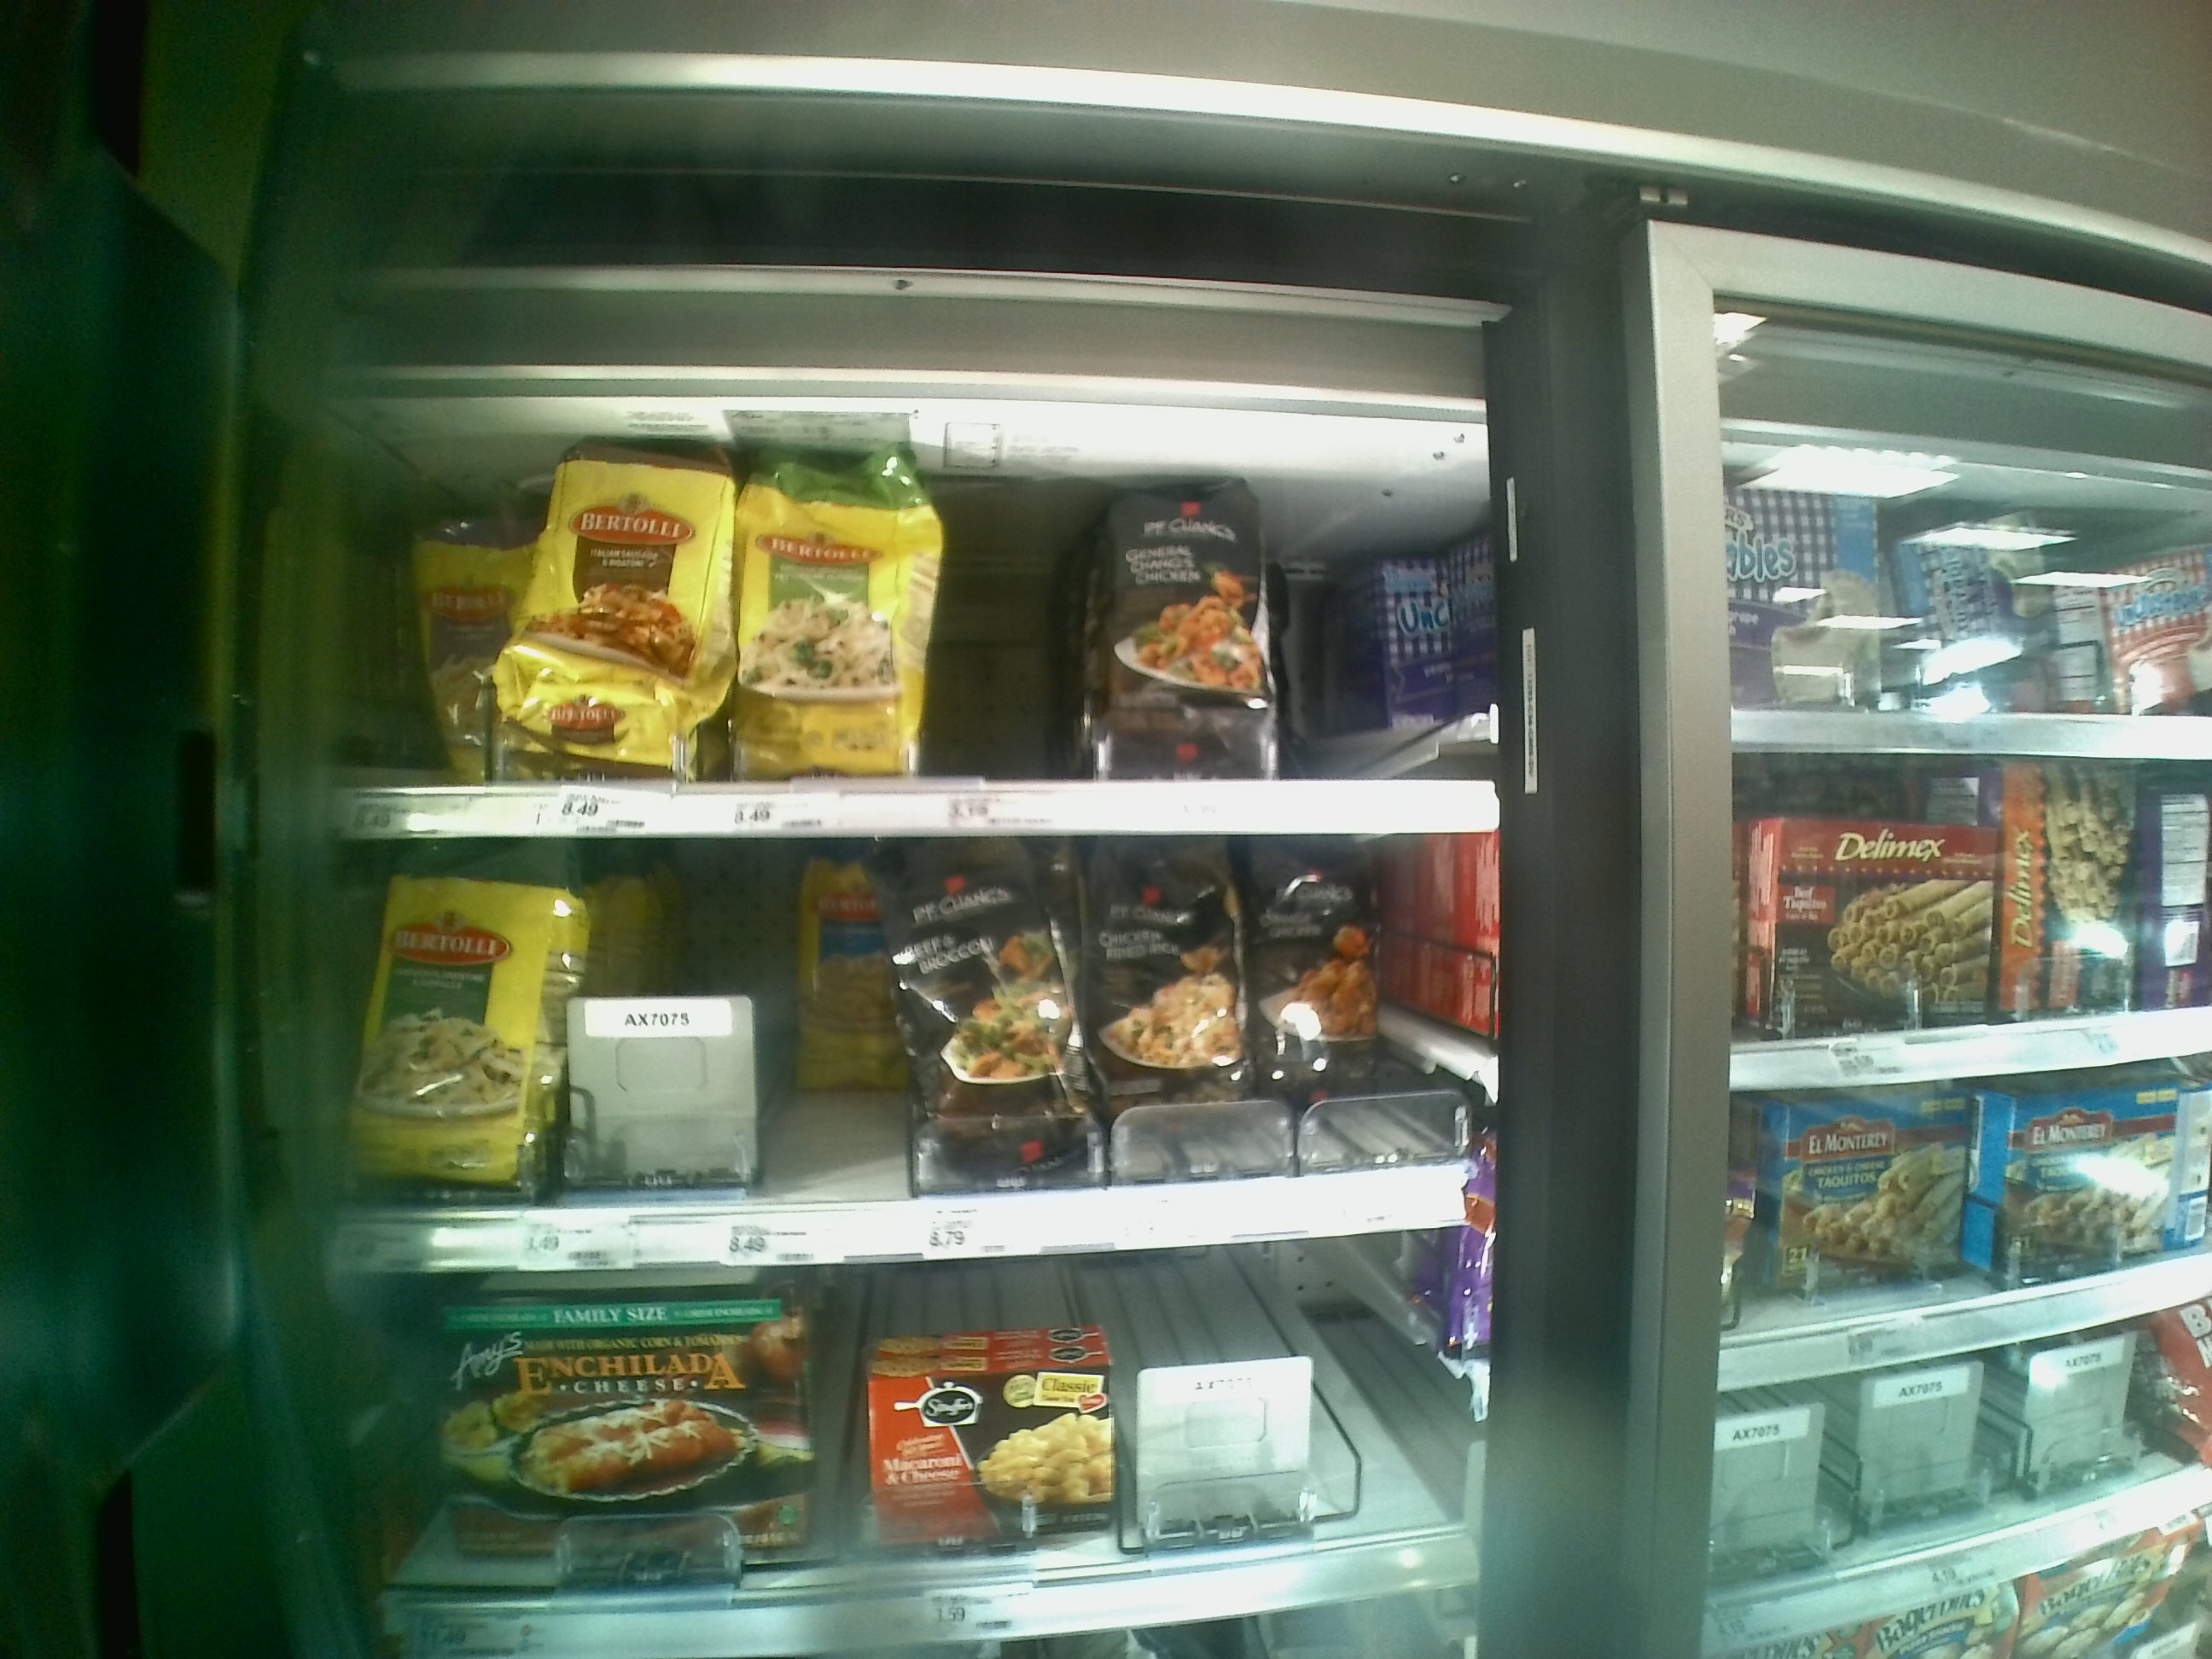shelf: (307, 824, 1498, 1276), (315, 406, 1489, 823), (347, 1276, 1479, 1645)
